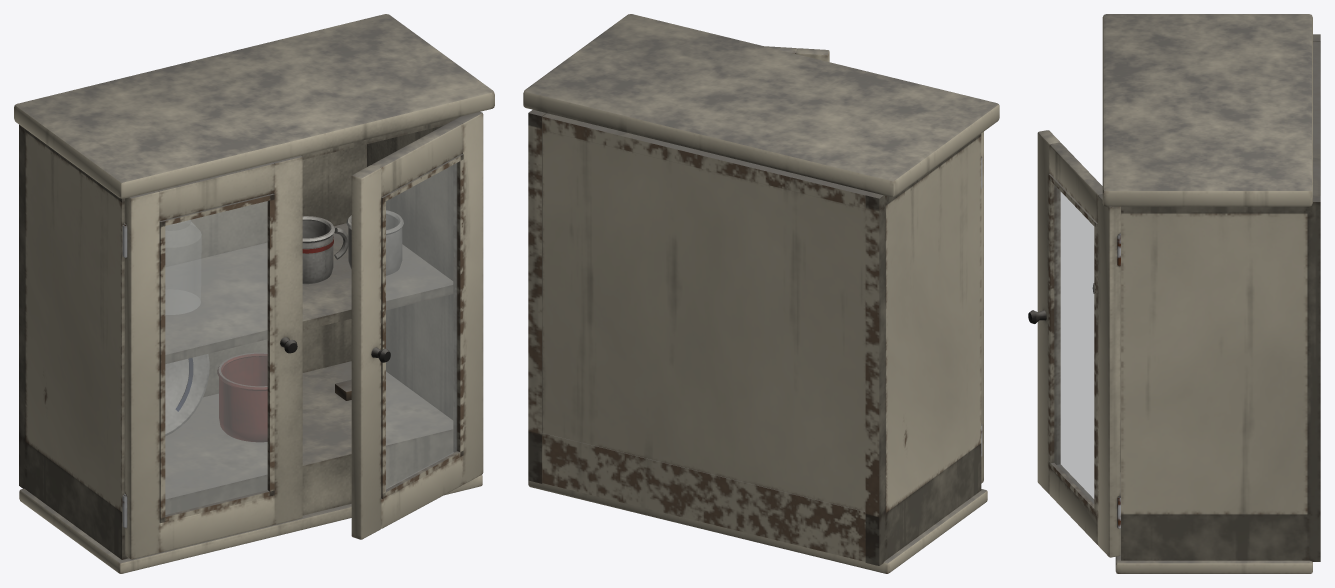
Rendered from SM_KitchenCabinet_Wall.fbx.
The picture shows the model from 3 angles, left to right: view 1: azimuth 30°, elevation 25°; view 2: azimuth 150°, elevation 25°; view 3: azimuth 270°, elevation 25°; orthographic projection. The views are drawn at different scales.
Visible parts, largest first — view 1: SM_KitchenCabinet_Wall; view 2: SM_KitchenCabinet_Wall; view 3: SM_KitchenCabinet_Wall.
Part boxes in pixels (x1,y1,x2,y2): SM_KitchenCabinet_Wall: (14,14,494,573); SM_KitchenCabinet_Wall: (523,14,999,573); SM_KitchenCabinet_Wall: (1028,14,1320,573).
Size of the model in its own units: 0.64 by 0.65 by 0.4449.
2 materials, 1 textured.
